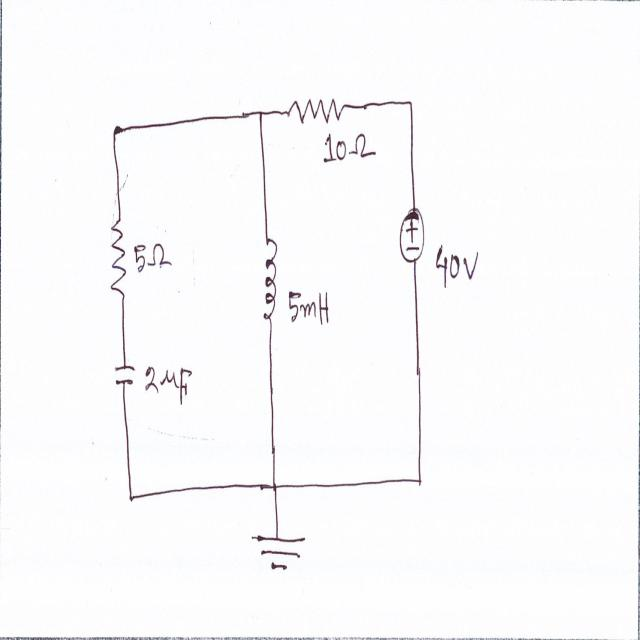capacitor: (111, 358, 141, 398)
ground: (248, 524, 310, 578)
inductor: (261, 224, 280, 334)
resistor: (284, 85, 348, 134), (108, 209, 130, 307)
voltage_source: (397, 196, 429, 269)
